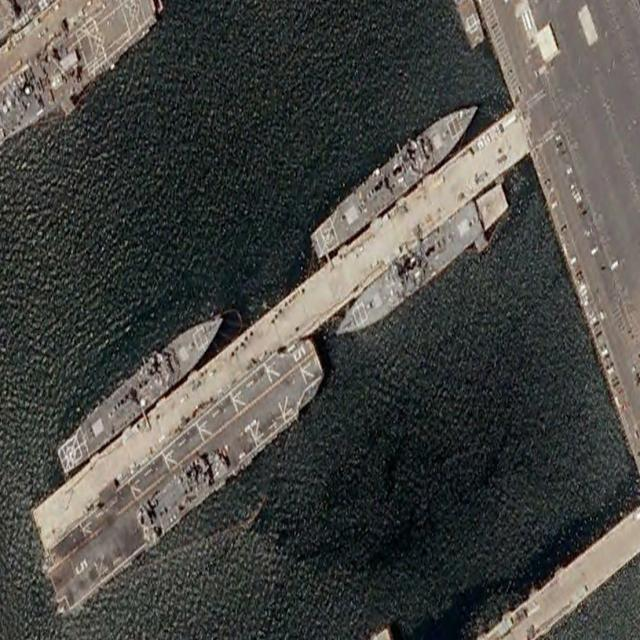Destroyer: (330, 175, 510, 354), (53, 298, 230, 480), (306, 88, 484, 264)
Landing: (35, 312, 331, 626)
